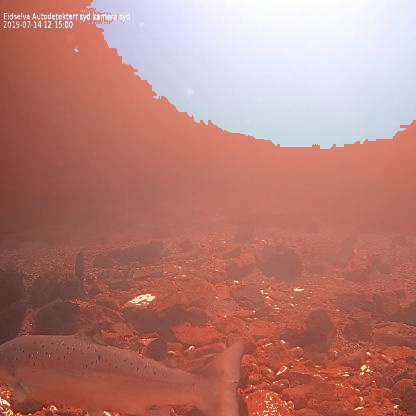salmon: (0, 319, 250, 415)
